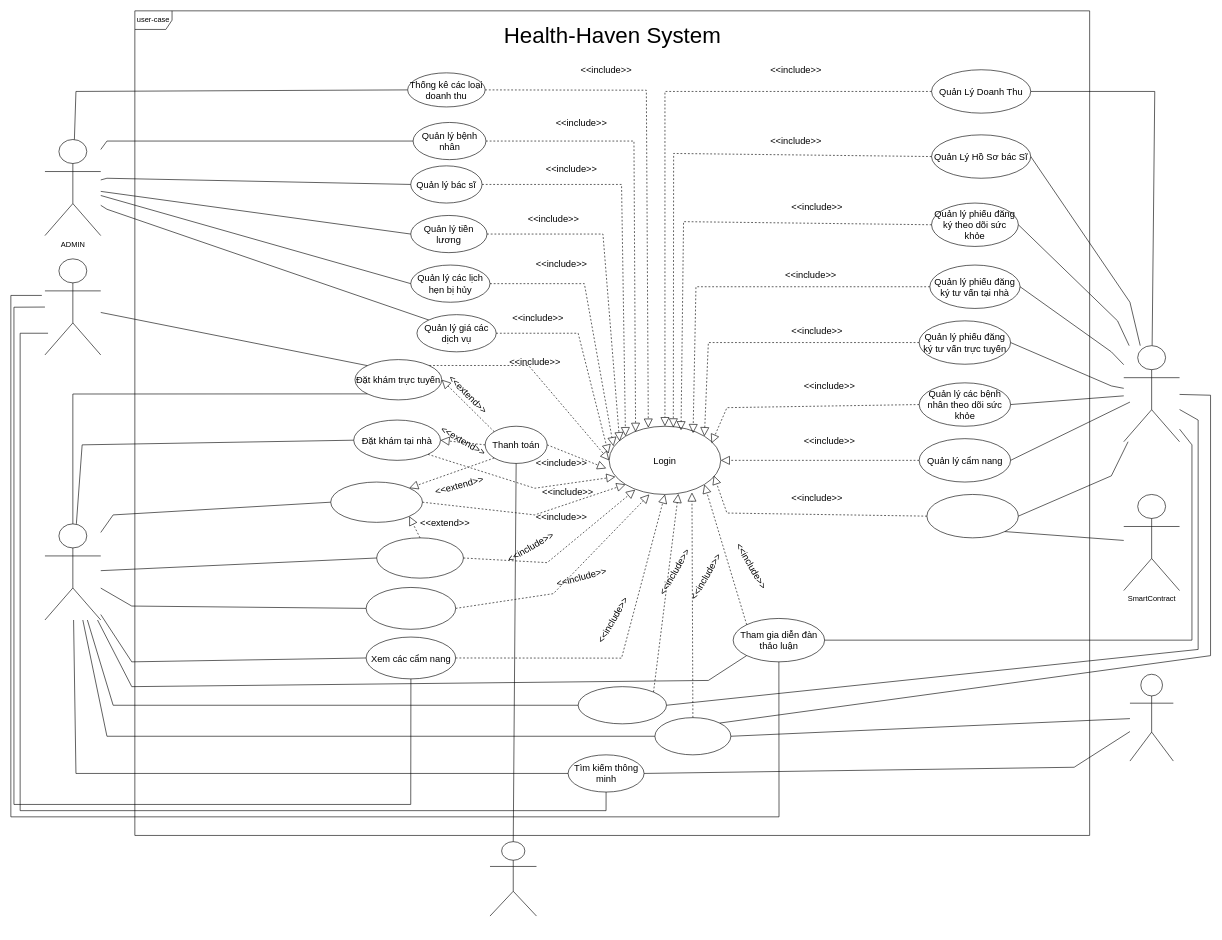
Some shapes in this 1222 by 940 pixel diagram are drawn without their labels. Each missing label, with the box of its shape:
ChatGPT: (1129, 674, 1173, 761)
CUSTOMER: (44, 258, 101, 355)
DOCTOR: (1123, 345, 1180, 442)
PATIENT: (44, 523, 101, 620)
Quản lý chỉ số sức khỏe: (376, 537, 463, 578)
Quản lý hồ sơ sức khỏe: (365, 587, 456, 629)
Quản lý thông tin cá nhân: (578, 686, 666, 724)
SE PAY: (489, 841, 536, 916)
Tư Vấn 24/7: (654, 717, 731, 755)
Tạo hồ sơ sức khỏe: (926, 494, 1018, 538)
Đăng ký theo dõi sức khỏe: (330, 481, 422, 522)
